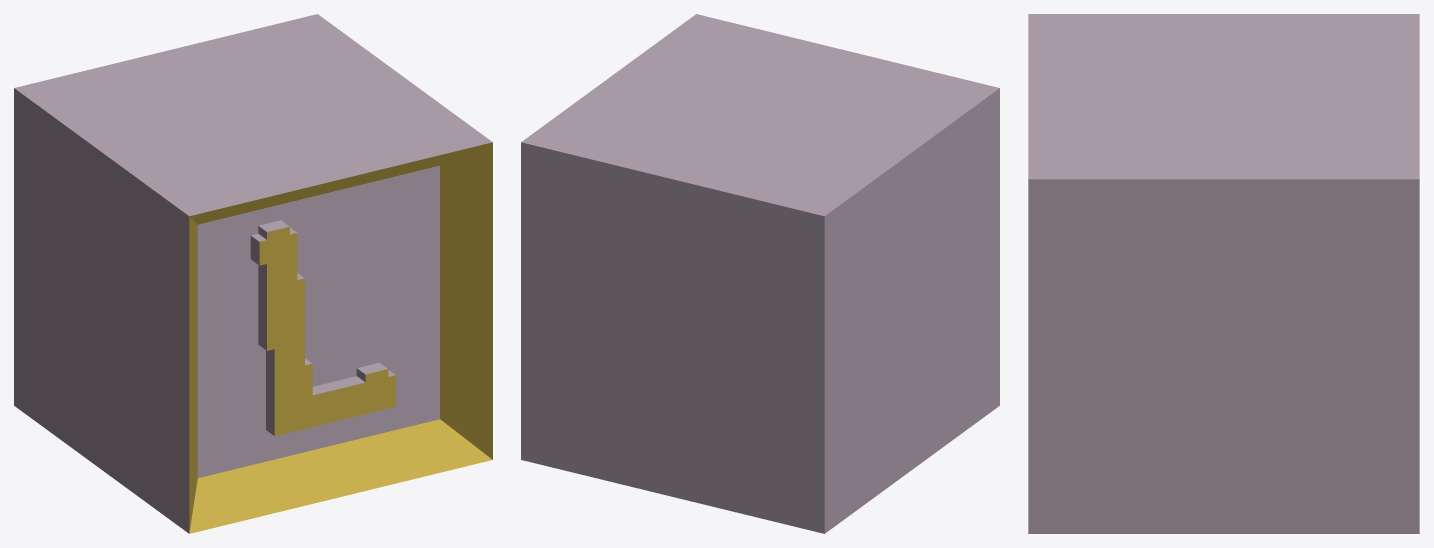
Rendered from BlockL.fbx.
The picture shows the model from 3 angles, left to right: view 1: azimuth 30°, elevation 25°; view 2: azimuth 150°, elevation 25°; view 3: azimuth 270°, elevation 25°; orthographic projection. The views are drawn at different scales.
Parts seen in each view (by area): view 1: Cube; view 2: Cube; view 3: Cube.
Boxes of the visible parts, x1,y1,x2,y2 form: Cube: [14, 14, 492, 533]; Cube: [521, 14, 999, 533]; Cube: [1028, 14, 1419, 533].
Bounding box in the file's own units: 2000 × 2000 × 2000.
